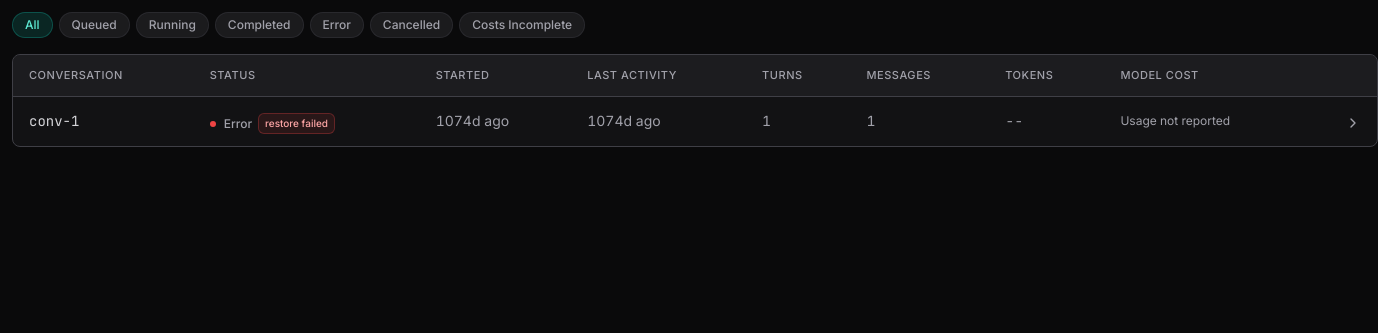
Test: AgentTurnsTab restore retry (ADR 013) › shows retry-restore button when projected ERROR has CHECKPOINTED sandbox with non-null lastRestoreError
The width and height of the screenshot is (1378, 333).
Click the row that starts with "conv-1" at point(54, 121), box [13,96,1377,146]
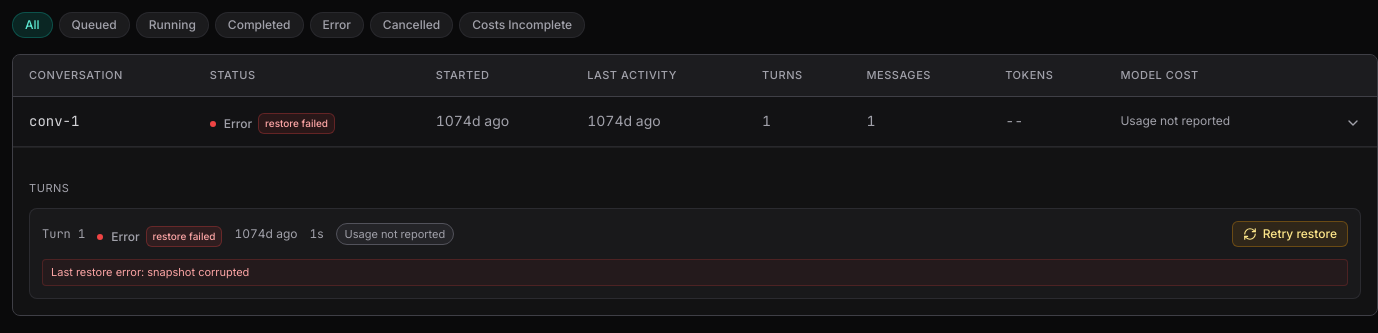
Result: the button with test id "retry-restore-button" is shown at [1232,221,1348,247]
Result: the text with test id "restore-error-detail" shows "snapshot corrupted" at [147,265,249,279]
